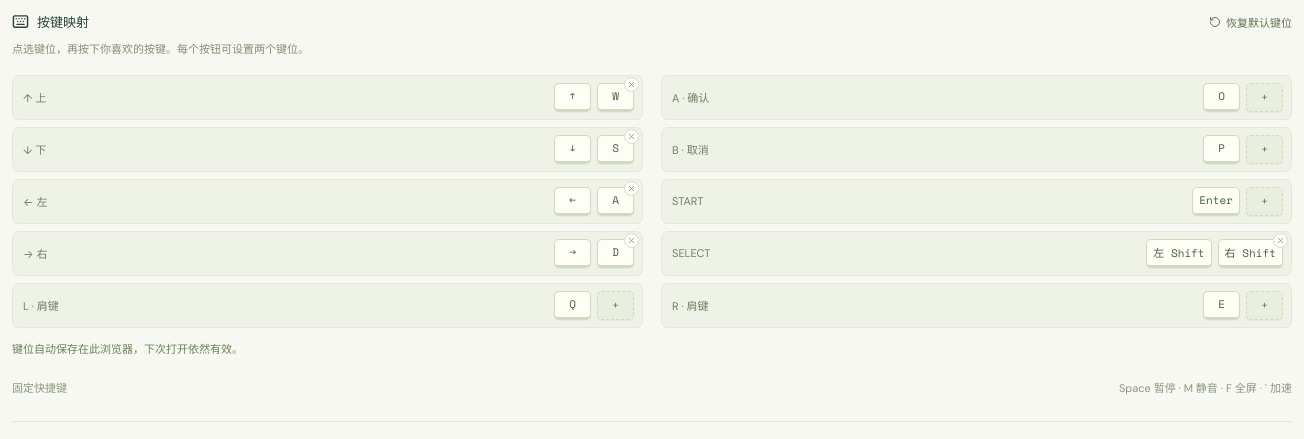
Test case: KeyBindings component › rejects modifier combinations (ctrlKey) with error feedback
This screenshot has width=1304, height=439.
Click the button named "修改 A 主要键位" at (1222, 97), box top-left (1203, 83), bottom-right (1240, 112)
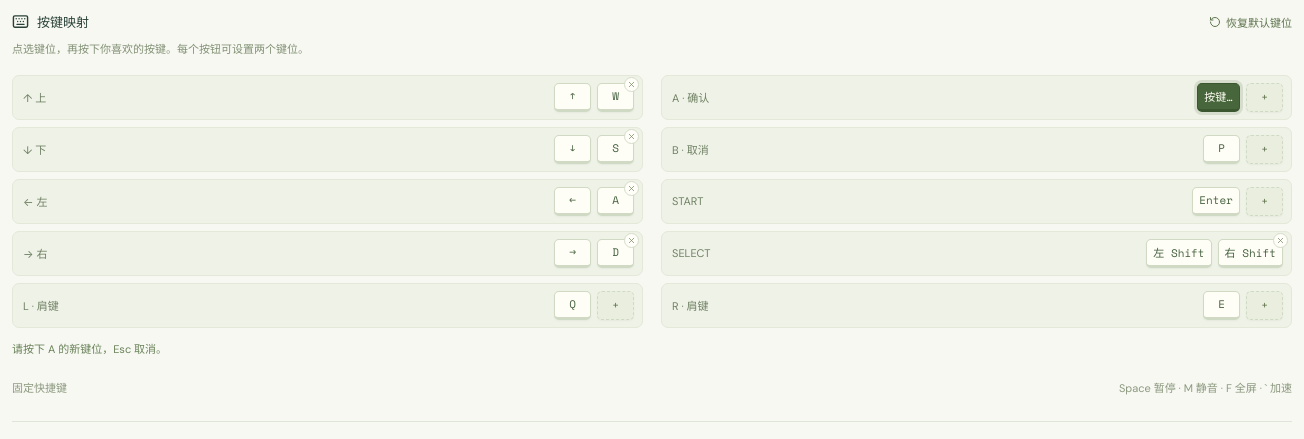
Press KeyK
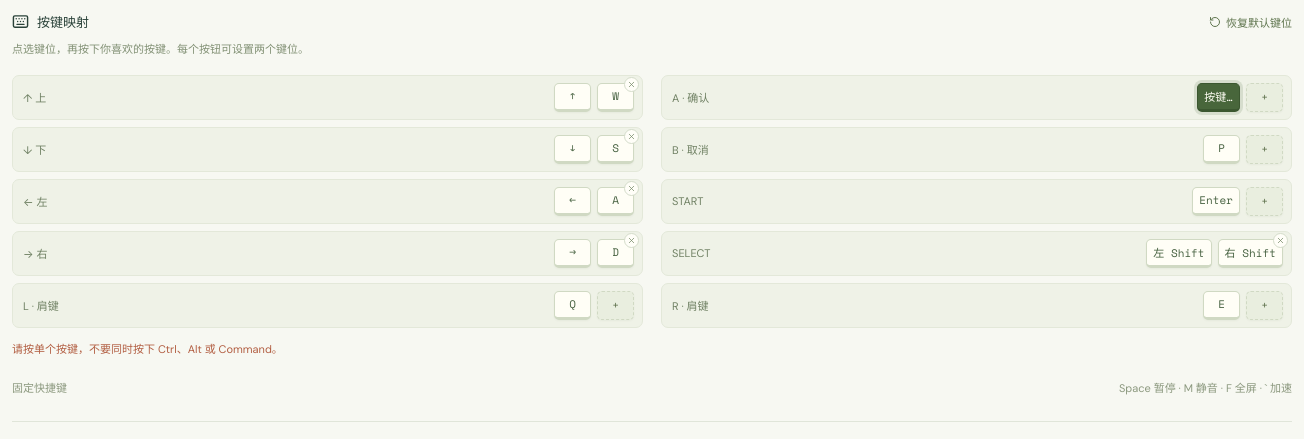
Result: the text "请按单个按键，不要同时按下 Ctrl、Alt 或 Command。" is shown at top-left (12, 342), bottom-right (283, 356)
